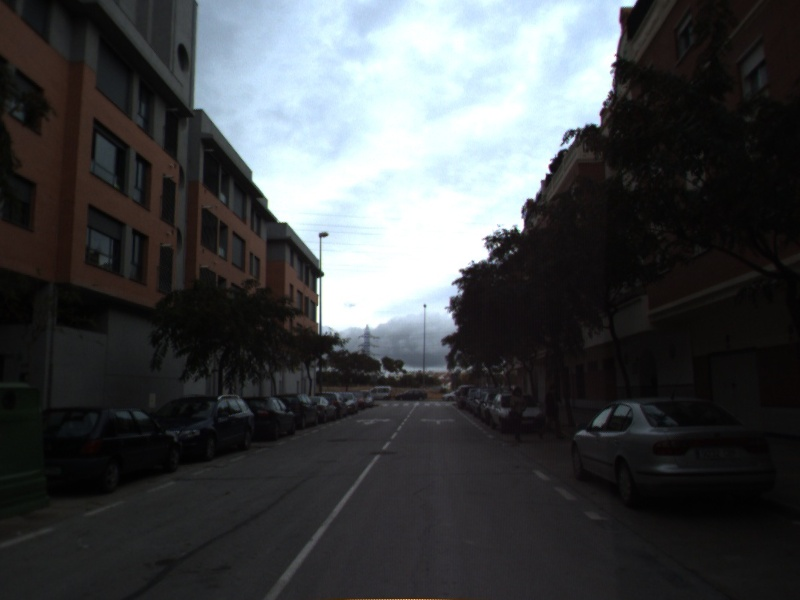LEFT_RIGHT: (418, 415, 458, 427)
